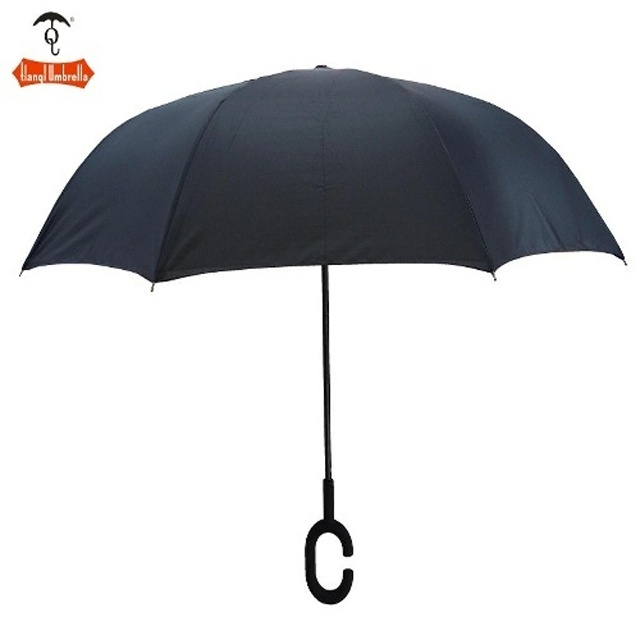umbrella: (15, 60, 640, 610), (31, 7, 76, 57)
